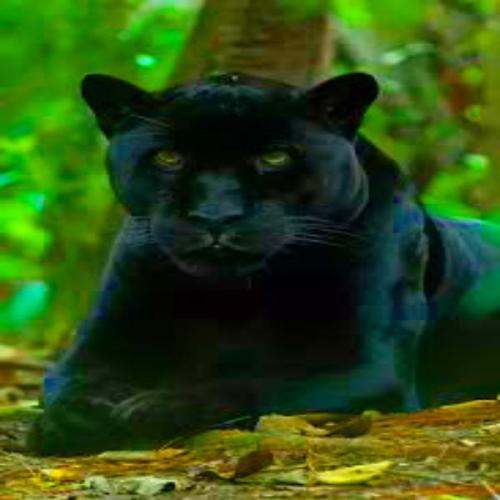panther-endangered: (32, 71, 500, 456)
